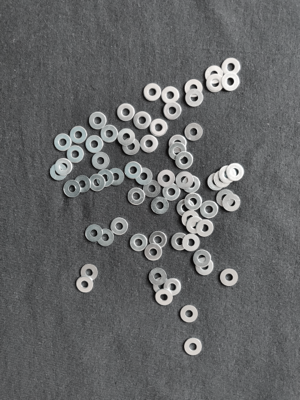circle: (179, 303, 200, 324), (183, 338, 204, 358), (222, 56, 242, 77), (199, 200, 219, 220), (184, 89, 204, 109), (221, 72, 241, 92), (126, 187, 147, 206), (182, 79, 203, 98), (204, 65, 225, 84), (93, 150, 111, 172), (144, 242, 163, 262), (223, 193, 242, 213), (88, 111, 108, 130), (99, 125, 119, 144), (115, 104, 135, 123), (132, 111, 152, 130), (149, 118, 169, 137), (162, 86, 181, 106), (153, 276, 171, 297), (85, 224, 104, 243), (157, 169, 176, 188), (182, 175, 201, 194), (135, 167, 154, 186), (124, 161, 143, 180), (88, 174, 107, 193), (184, 123, 203, 142), (55, 157, 74, 176), (49, 163, 68, 182), (140, 135, 159, 154), (143, 84, 162, 103), (195, 259, 215, 277), (107, 167, 125, 187), (74, 175, 92, 195), (63, 180, 81, 200), (53, 134, 73, 152), (117, 128, 137, 146), (97, 169, 114, 190), (129, 234, 148, 252), (149, 231, 168, 249), (220, 269, 239, 287), (183, 234, 202, 252), (216, 190, 234, 209), (163, 183, 181, 202), (176, 171, 194, 190), (227, 163, 245, 182), (219, 165, 237, 184), (169, 134, 188, 152), (86, 135, 104, 154), (70, 126, 89, 144), (66, 145, 85, 163), (163, 102, 182, 120), (148, 268, 168, 285), (214, 169, 231, 189), (206, 74, 223, 94), (97, 229, 115, 247), (193, 250, 211, 268), (171, 233, 189, 251), (197, 219, 215, 237), (186, 216, 204, 234), (181, 210, 199, 228), (152, 198, 170, 216), (155, 289, 174, 306), (165, 278, 182, 297), (111, 217, 128, 236), (177, 200, 196, 217), (207, 173, 224, 192), (176, 152, 195, 169), (75, 277, 95, 293), (167, 144, 187, 160), (144, 180, 161, 198), (122, 139, 140, 156), (82, 264, 98, 283), (184, 194, 203, 210)
